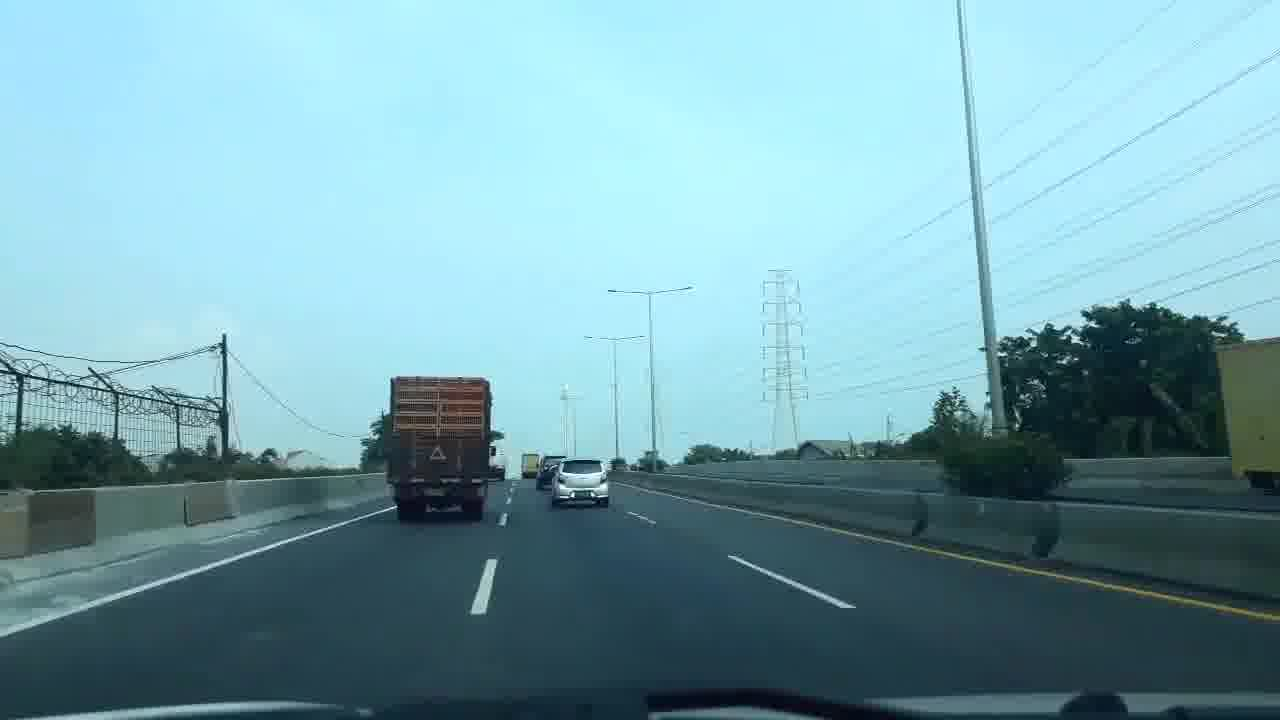plate_positive: (424, 487, 447, 496), (574, 491, 591, 498)
